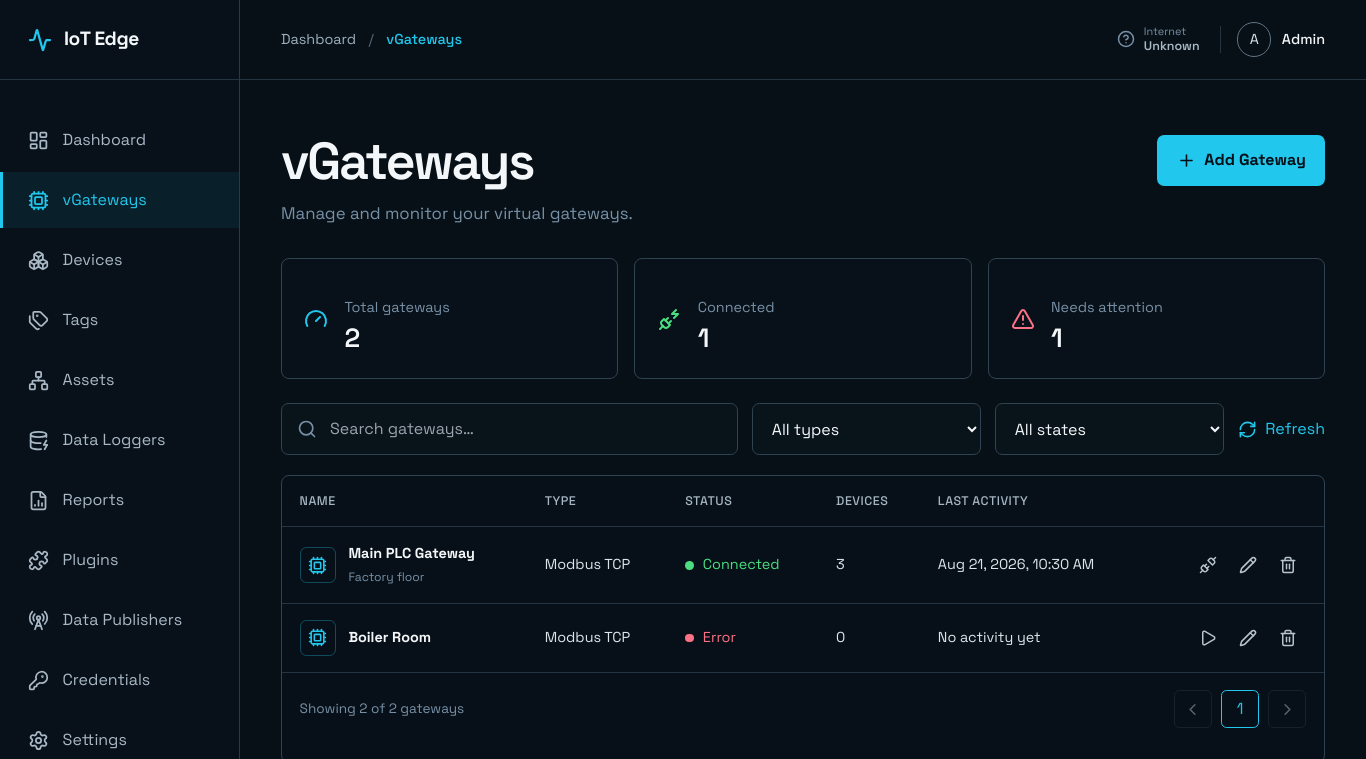
Test: VGatewayListPage › keeps the list and reports a failed deletion
Check: the link "Main PLC Gateway" is shown, box x1=348 y1=544 x2=475 y2=562
Click the button named "Delete Main PLC Gateway": (1288, 565) x1=1270 y1=547 x2=1306 y2=583
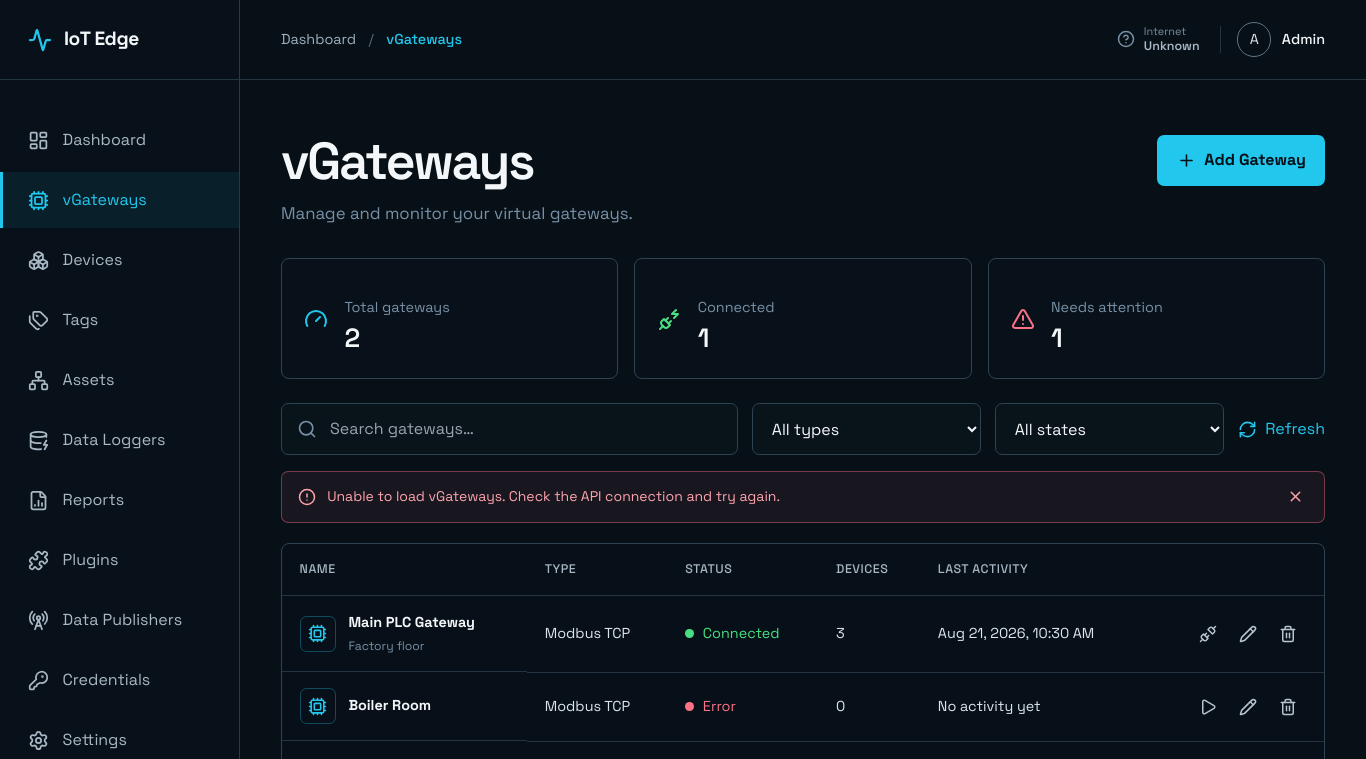
Check: the link "Main PLC Gateway" is shown, box x1=348 y1=613 x2=475 y2=631
Check: the message "Unable to load vGateways. Check the API connection and try again." is shown, box x1=281 y1=471 x2=1325 y2=523
